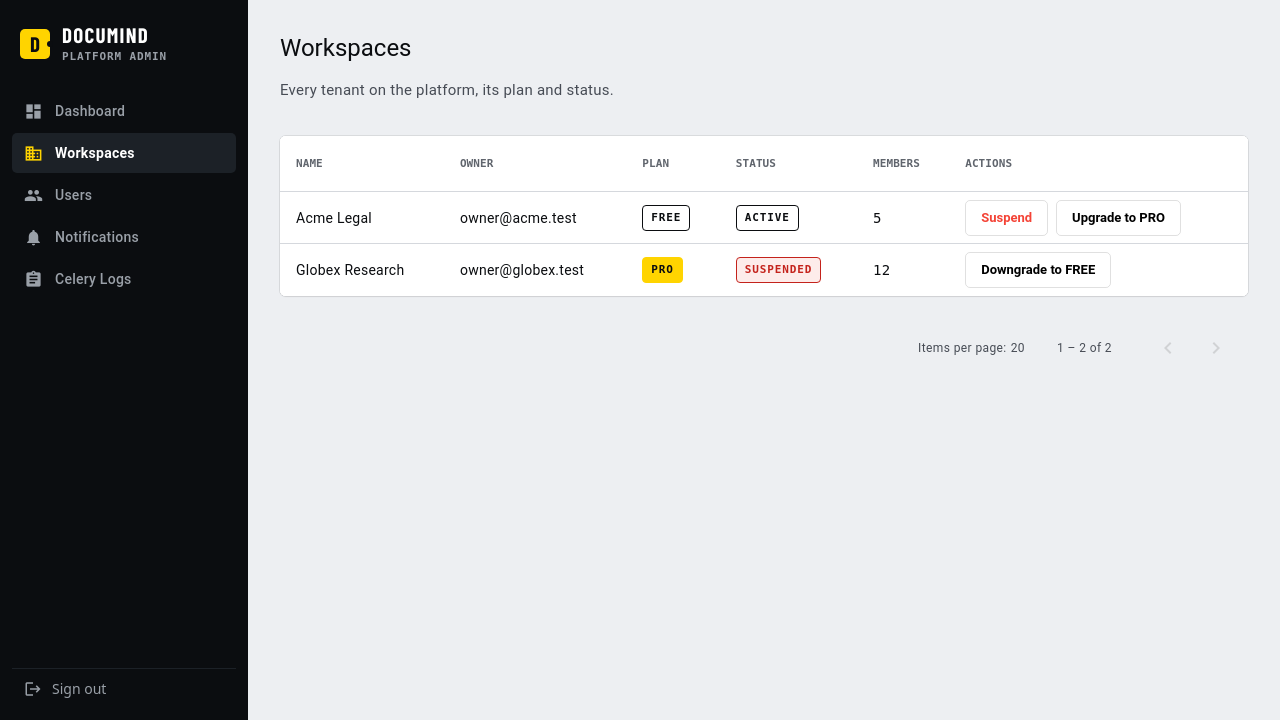
Test case: Workspaces › suspends a workspace after confirmation
The width and height of the screenshot is (1280, 720).
Click the button "Suspend" at (1007, 218), box [965,200,1048,236]
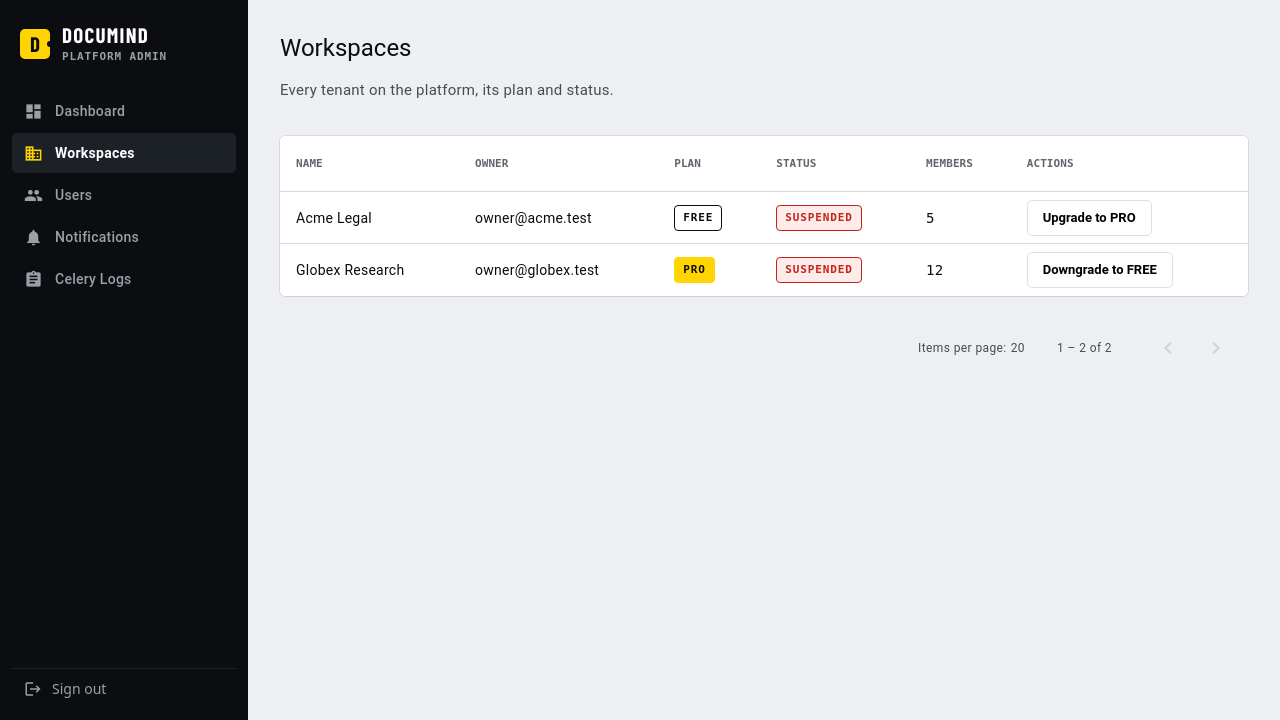
Result: the text "Acme Legal" in the row of "Acme Legal" reads "SUSPENDED" at [785,211,853,224]
